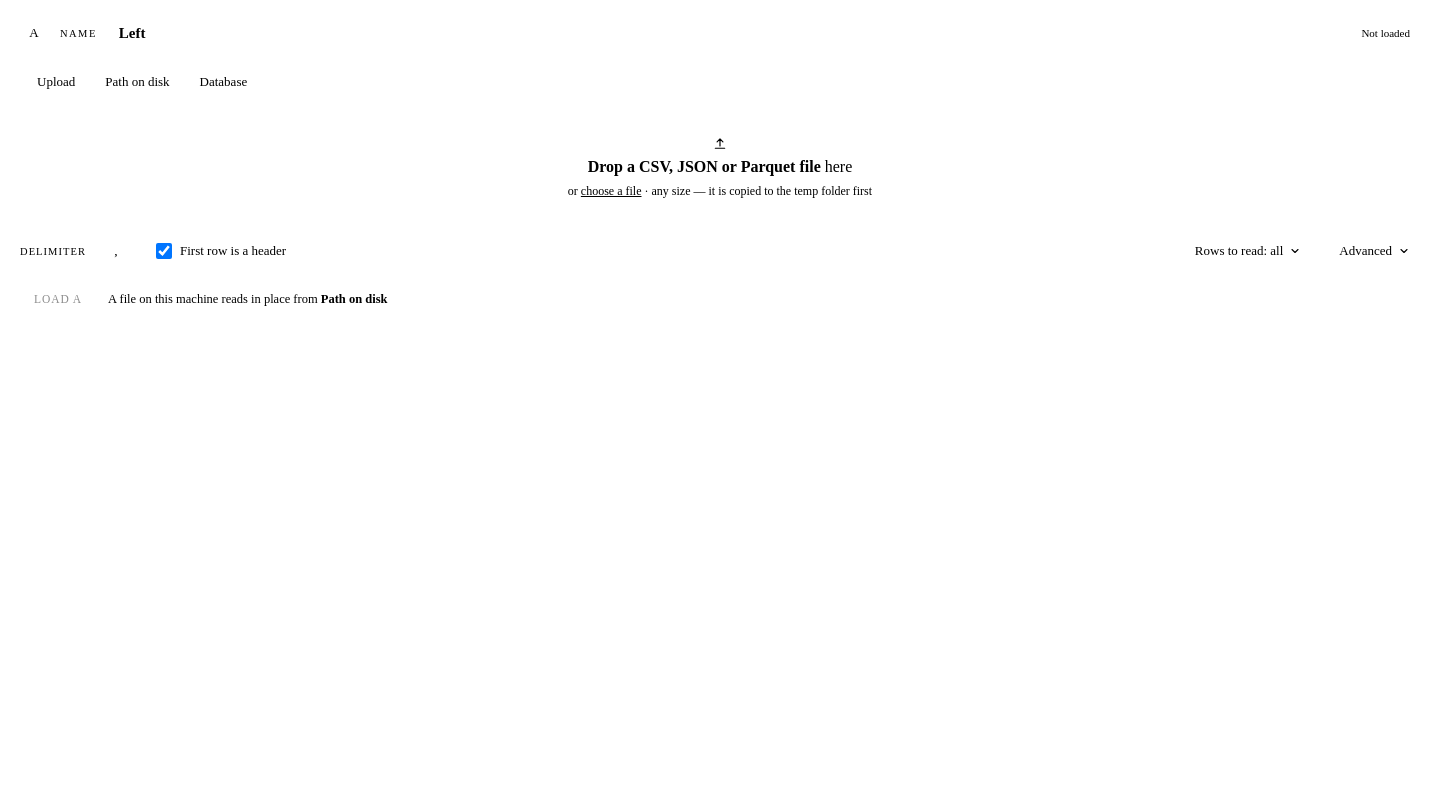
Scenario: a database side asks for the password, and its one Load fetches as a job, then loads what was fetched
Click the radio button labelled "Database".
click(223, 82)  # box top-left (200, 74), bottom-right (247, 89)
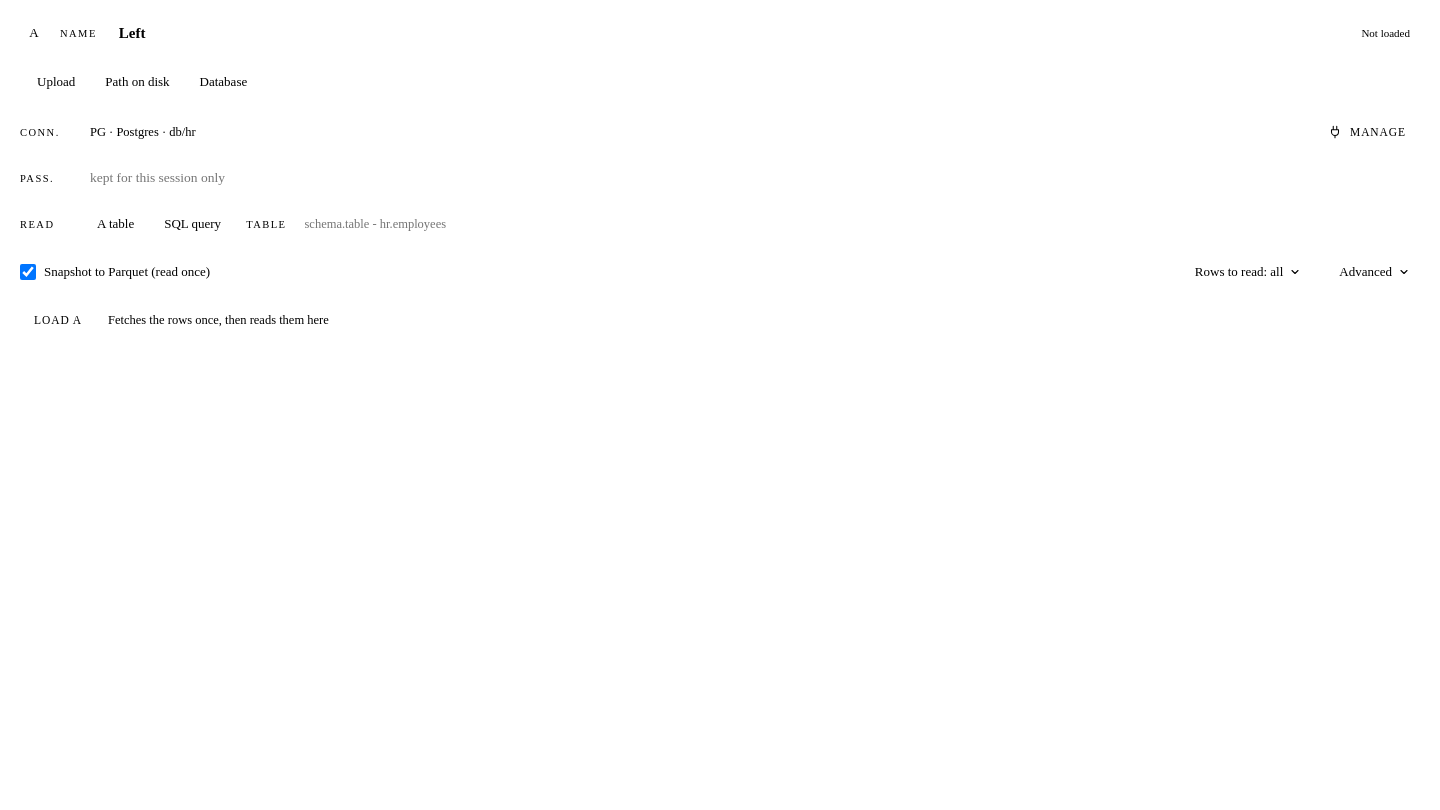
Type "hr.employees" into the field labelled "Table".
click(857, 224); type("hr.employees")  # box top-left (294, 206), bottom-right (1420, 242)
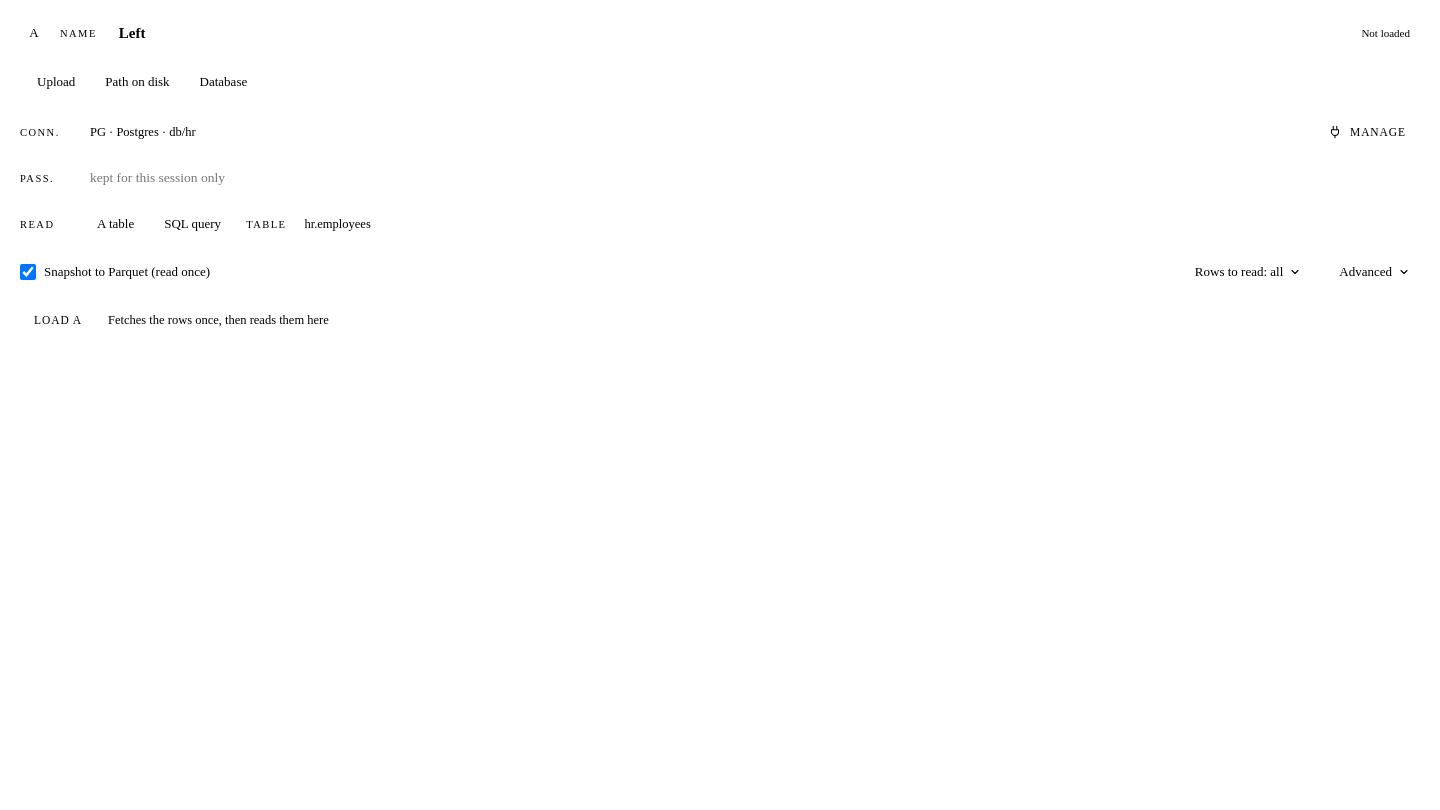
Type "typed" into the password field named "Password".
click(750, 178); type("typed")  # box top-left (80, 160), bottom-right (1420, 196)
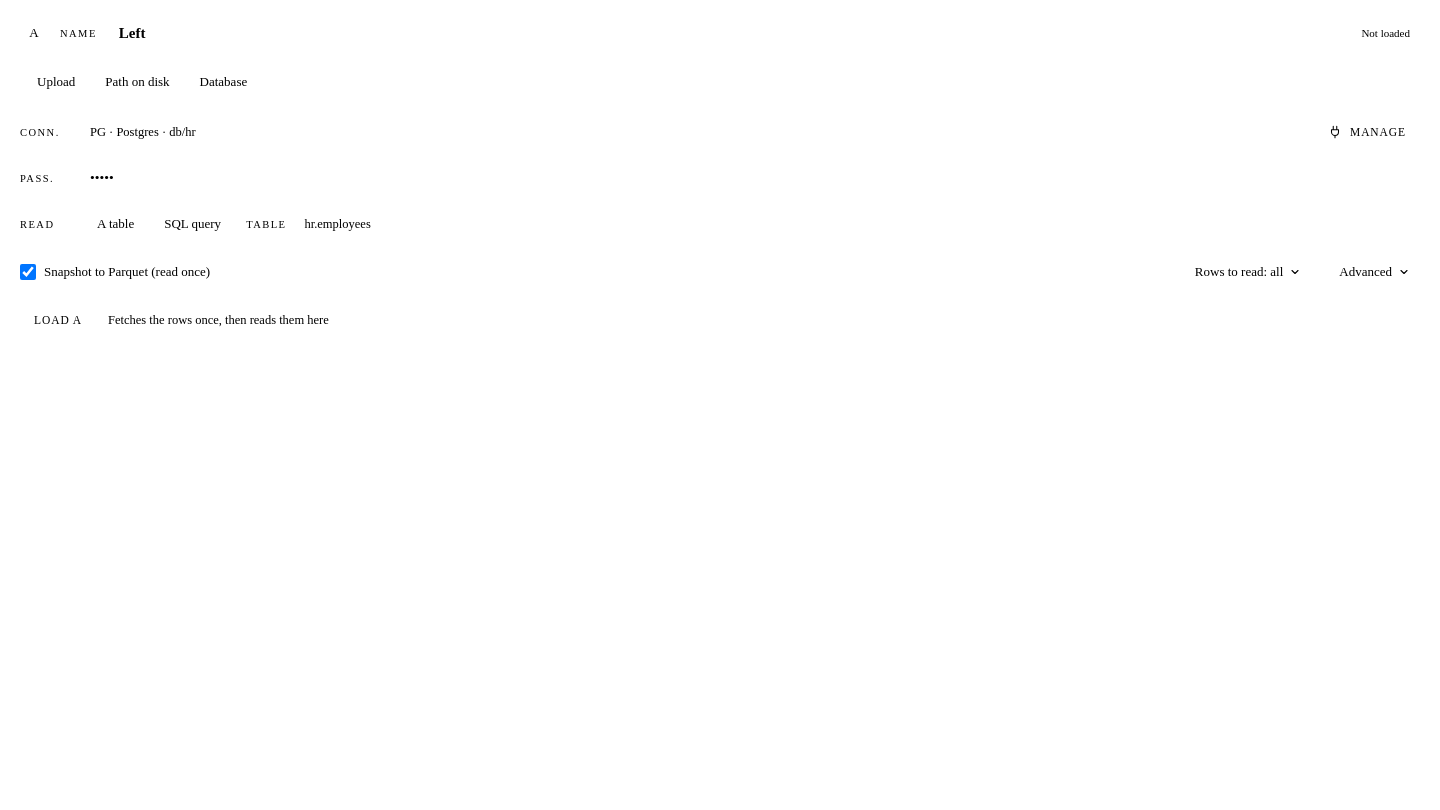
Click the button "Advanced".
click(1375, 272)  # box top-left (1329, 256), bottom-right (1420, 288)
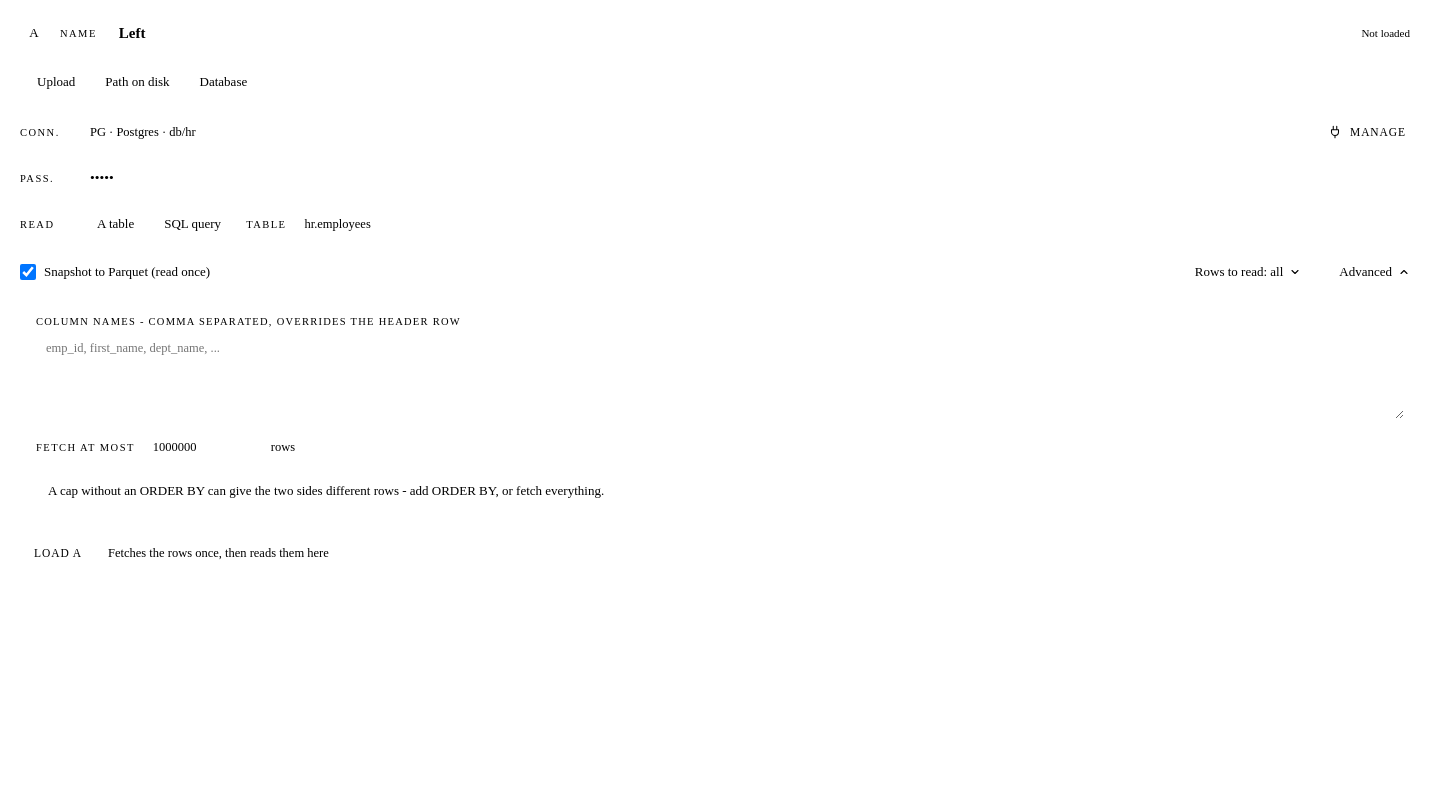
expect the number field named "Fetch at most (0 = all)" holds "1000000": met, box top-left (143, 431), bottom-right (263, 463)
expect the text "A cap without an ORDER BY" is shown: met, box top-left (48, 483), bottom-right (604, 498)
Click the button "Load A".
click(58, 553)  # box top-left (20, 535), bottom-right (96, 571)
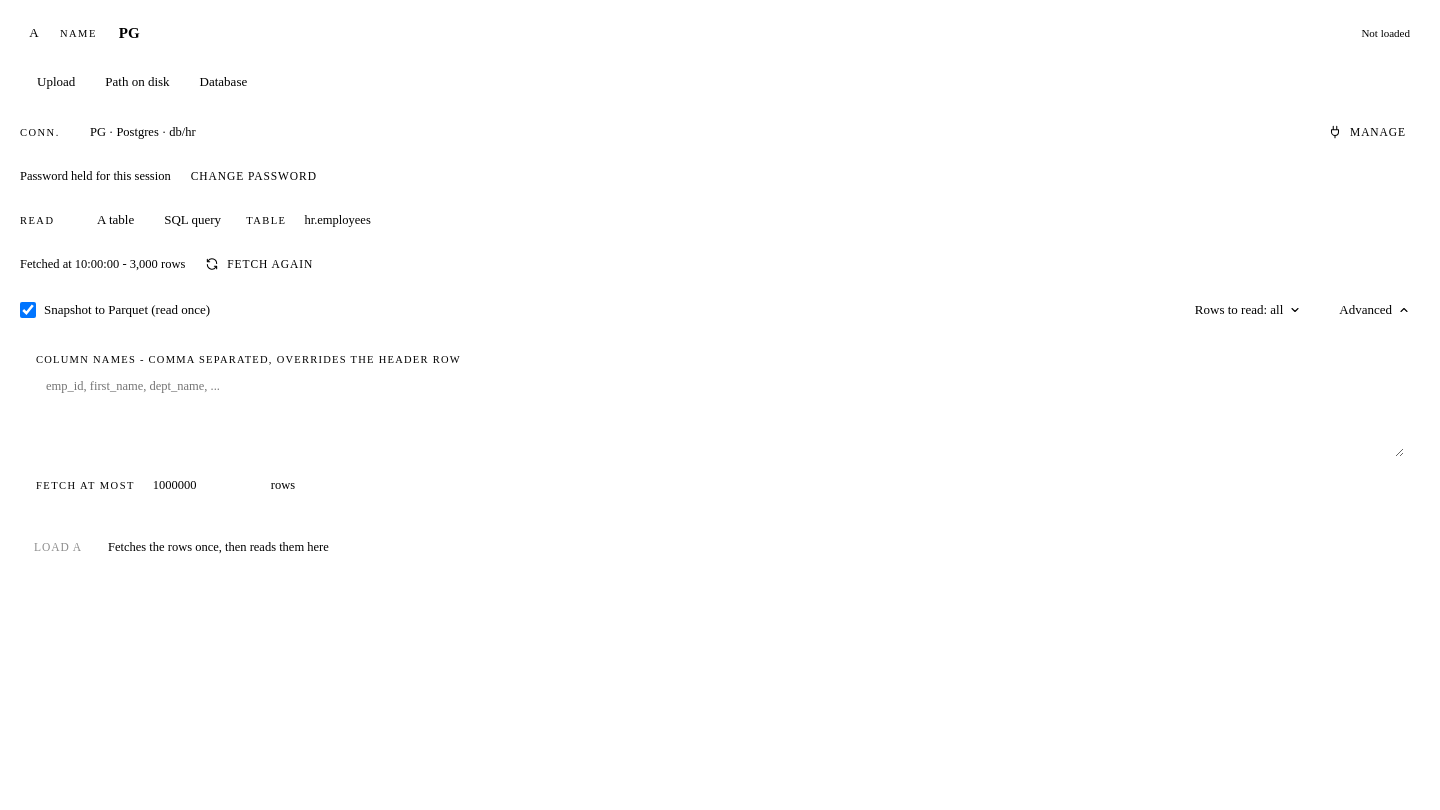
expect the text "Fetched at 10:00:00 - 3,000 rows" is shown: met, box top-left (20, 256), bottom-right (185, 272)
expect the button "Fetch again" is shown: met, box top-left (193, 248), bottom-right (325, 280)
